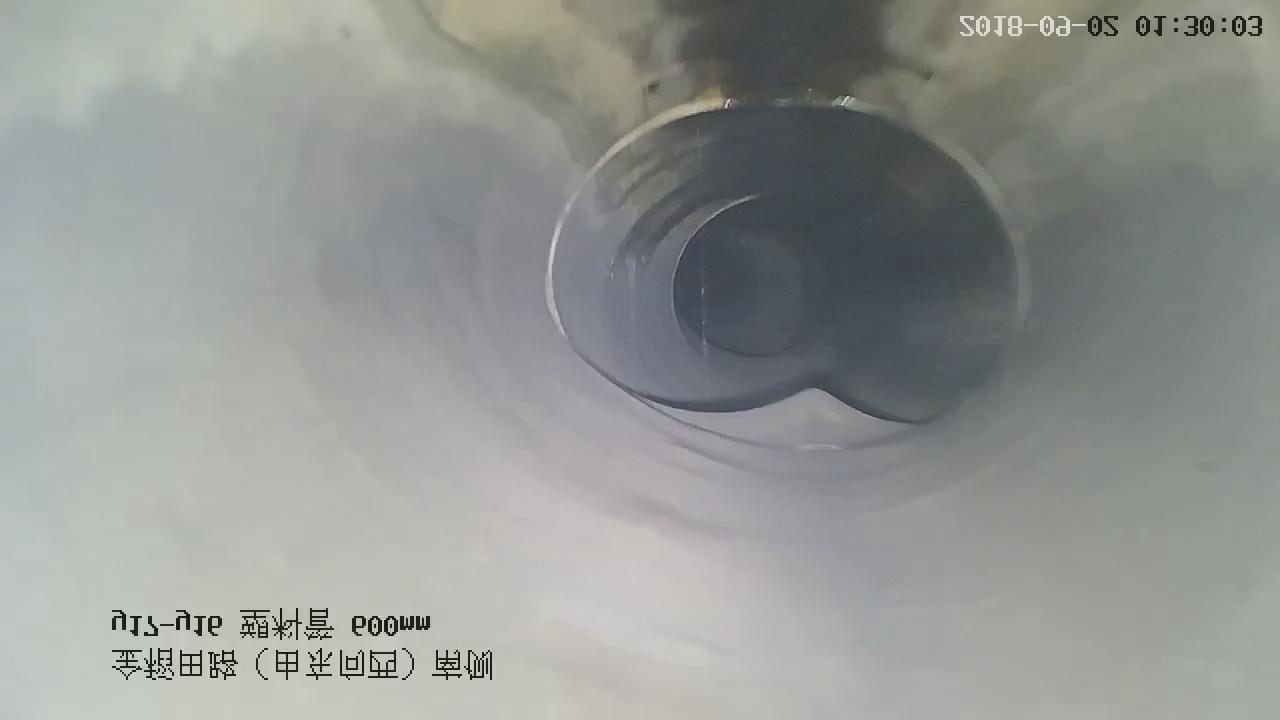BX: (624, 356, 969, 456)
